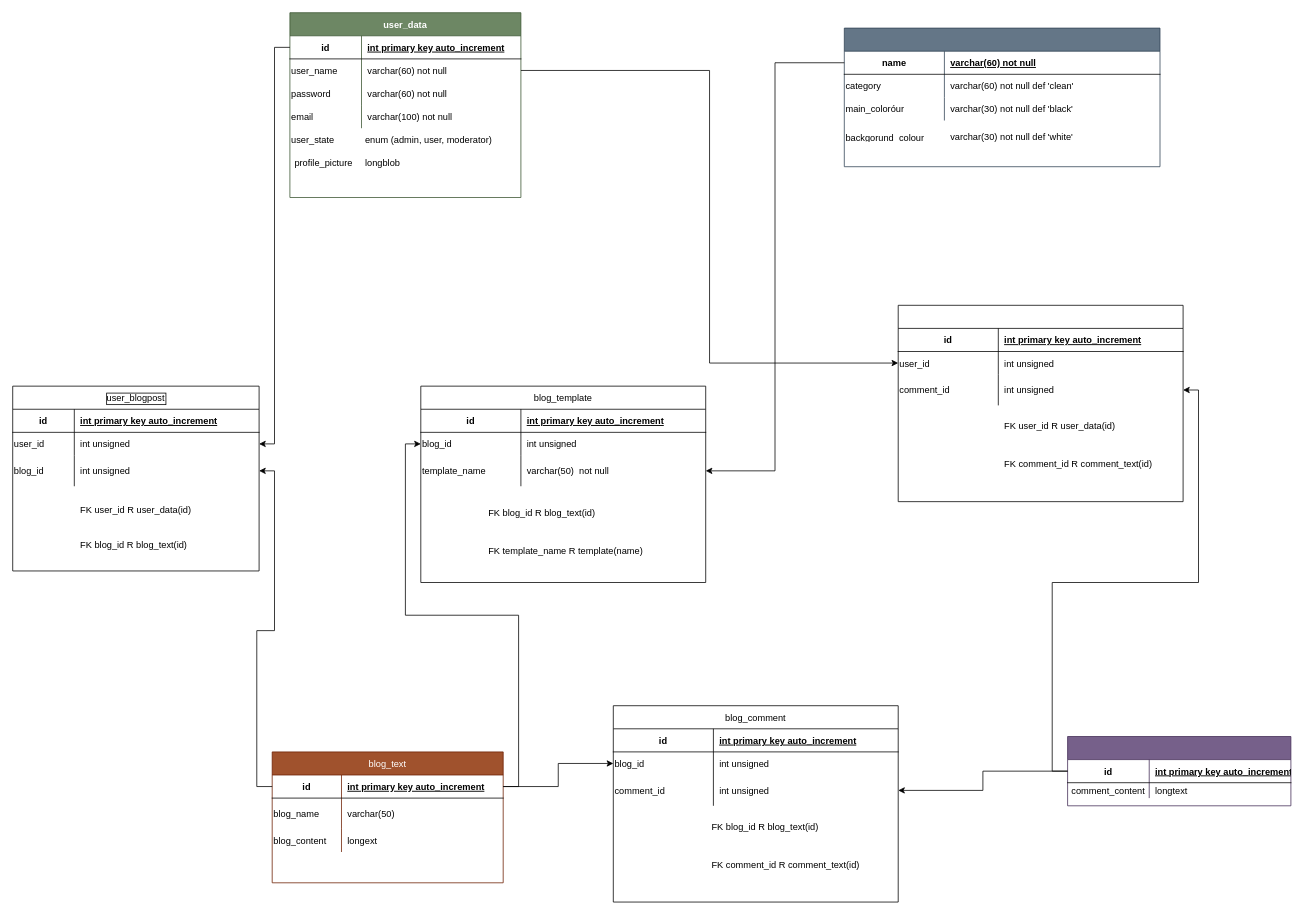
The diagram is 1305 pixels wide and 915 high, and some of its shapes have lost their labels. Here are the shapes that lost their labels. From the top down, the box of each, then its label:
(844, 27, 1160, 167): template
(897, 305, 1183, 502): user_comment
(1067, 736, 1291, 806): comment_text
